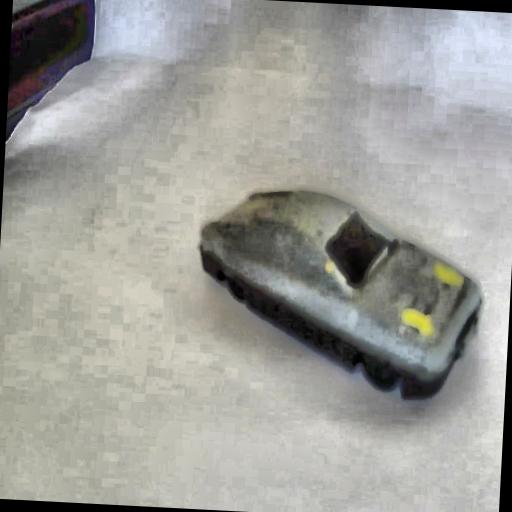normal_car: (186, 177, 492, 406)
